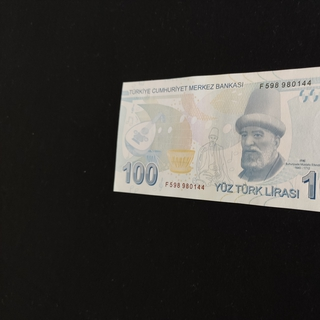100TLBack: (112, 61, 320, 218)
